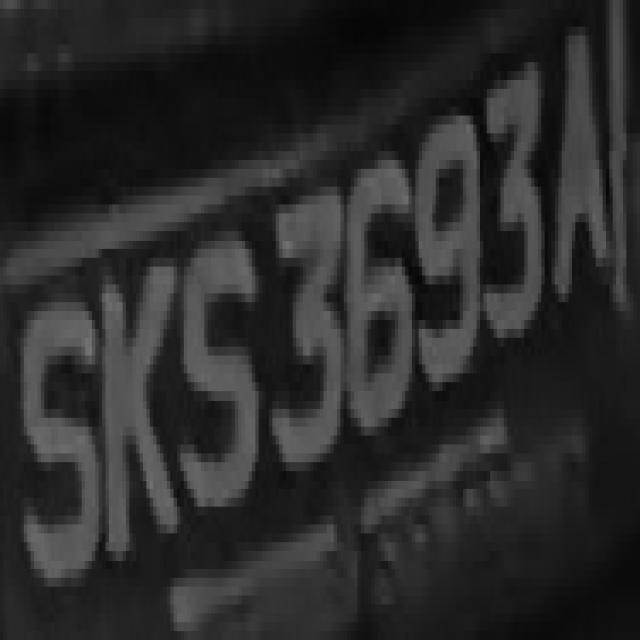3: (269, 187, 357, 498), (473, 44, 555, 364)
6: (344, 116, 415, 480)
9: (415, 80, 494, 400)
A: (555, 18, 623, 293)
K: (92, 240, 167, 560)
S: (177, 196, 272, 534), (21, 302, 102, 596)
